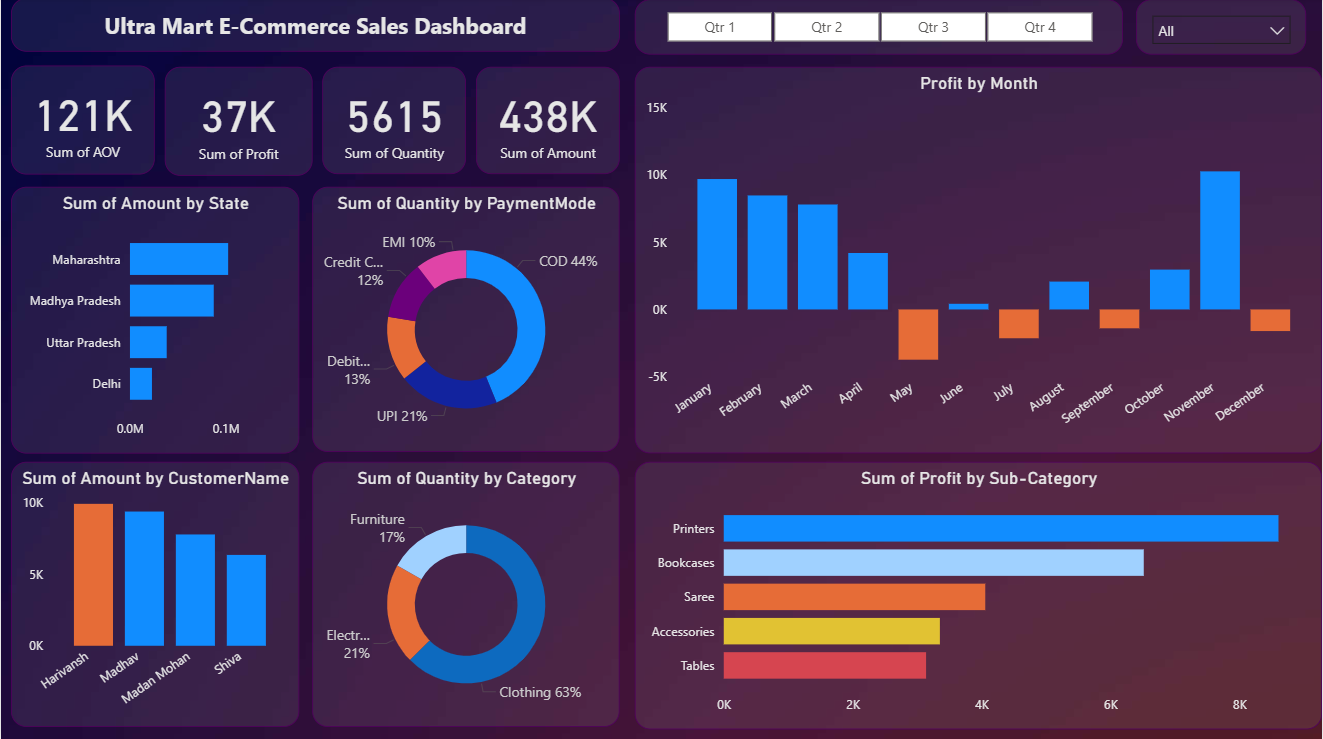

The page's visual inventory and layout, read from the dashboard file:
{"tool":"powerbi","page":{"name":"Page 1","canvas":[1280,720],"ordinal":0},"visuals":[{"type":"textbox","box":[9.6,0,589.9,52.3],"z":0},{"type":"columnChart","title":"Profit by Month","fields":{"Category":["Orders.Order Date.Variation.Date Hierarchy.Month"],"Y":["Details.Profit"]},"box":[613.3,66,665.6,374],"z":1000},{"type":"barChart","fields":{"Category":["Details.Sub-Category"],"Y":["Details.Profit"]},"box":[613.7,449.1,665.8,259],"z":2000},{"type":"donutChart","fields":{"Category":["Details.Category"],"Y":["Details.Quantity"]},"box":[301.4,449.1,297.8,256.6],"z":3000},{"type":"donutChart","fields":{"Category":["Details.PaymentMode"],"Y":["Details.Quantity"]},"box":[301.4,182.8,297.8,256.6],"z":4000},{"type":"card","fields":{"Values":["Details.Amount"]},"box":[460,66.6,139.2,104.1],"z":5000},{"type":"card","fields":{"Values":["Details.Quantity"]},"box":[311.1,66.6,139.2,104.1],"z":6000},{"type":"card","fields":{"Values":["Details.Profit"]},"box":[158.6,66.6,142.8,105.3],"z":7000},{"type":"card","fields":{"Values":["Details.AOV"]},"box":[9.7,65.4,139.2,105.3],"z":8000},{"type":"barChart","fields":{"Category":["Orders.State"],"Y":["Details.Amount"]},"box":[9.6,182.9,279.2,258.5],"z":9000},{"type":"columnChart","fields":{"Category":["Orders.CustomerName"],"Y":["Details.Amount"]},"box":[10,449,279,257],"z":10000},{"type":"slicer","fields":{"Values":["Orders.Order Date.Variation.Date Hierarchy.Quarter"]},"box":[613.3,1.4,473.1,53.6],"z":11000},{"type":"slicer","fields":{"Values":["Orders.State"]},"box":[1098.8,1.4,165,53.6],"z":12000}]}

Visuals, with their boxes in screenshot pixels (x1, y1, x2, y2), scaled from the page's 1280x720 canvas onto the 1323x739 screenshot:
textbox: <bbox>10, 0, 620, 54</bbox>
"Profit by Month" columnChart: <bbox>634, 68, 1322, 452</bbox>
barChart - Details.Sub-Category x Details.Profit: <bbox>634, 461, 1322, 727</bbox>
donutChart - Details.Category x Details.Quantity: <bbox>312, 461, 619, 724</bbox>
donutChart - Details.PaymentMode x Details.Quantity: <bbox>312, 188, 619, 451</bbox>
card - Details.Amount: <bbox>475, 68, 619, 175</bbox>
card - Details.Quantity: <bbox>322, 68, 465, 175</bbox>
card - Details.Profit: <bbox>164, 68, 312, 176</bbox>
card - Details.AOV: <bbox>10, 67, 154, 175</bbox>
barChart - Orders.State x Details.Amount: <bbox>10, 188, 299, 453</bbox>
columnChart - Orders.CustomerName x Details.Amount: <bbox>10, 461, 299, 725</bbox>
slicer - Orders.Order Date.Variation.Date Hierarchy.Quarter: <bbox>634, 1, 1123, 56</bbox>
slicer - Orders.State: <bbox>1136, 1, 1306, 56</bbox>
